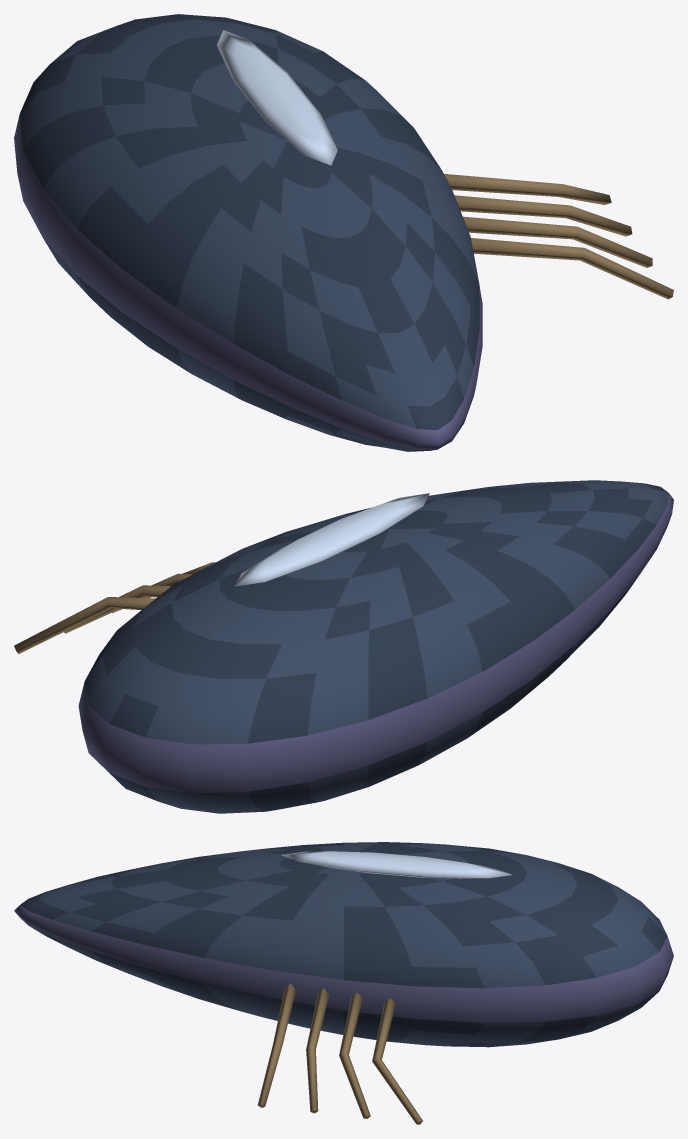
Rendered from sea-mussel.glb.
3 renders of one model, top to bottom at view 1: azimuth 30°, elevation 25°; view 2: azimuth 150°, elevation 25°; view 3: azimuth 270°, elevation 25°, orthographic. The views are drawn at different scales.
Visible parts, largest first — view 1: mussel; view 2: mussel; view 3: mussel.
Boxes of the visible parts, box(x1,y1,x2,y2) form: mussel: box(14, 14, 673, 451); mussel: box(14, 480, 673, 813); mussel: box(14, 842, 673, 1124).
Bounding box in the file's own units: 0.1334 × 0.0571 × 0.2.
